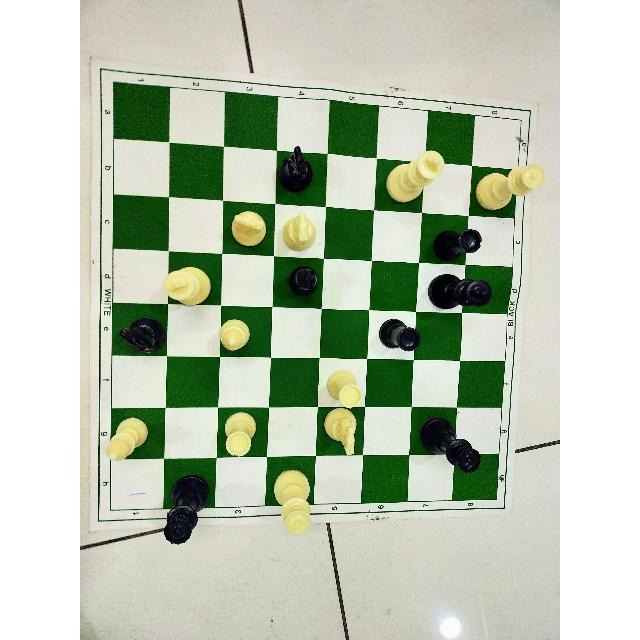black-bishop: (287, 264, 320, 297)
black-king: (427, 273, 493, 310)
black-knight: (117, 316, 166, 355), (275, 145, 314, 193)
black-queen: (418, 415, 483, 475), (162, 473, 212, 547)
black-rook: (431, 226, 483, 263), (377, 317, 421, 353)
white-bishop: (105, 414, 151, 463), (219, 317, 251, 352)
white-king: (384, 149, 445, 205), (161, 264, 212, 308)
white-knight: (322, 406, 358, 456), (281, 210, 317, 252), (230, 209, 268, 248)
white-queen: (473, 160, 548, 213), (272, 468, 314, 538)
white-rook: (223, 410, 257, 457), (326, 368, 364, 410)
